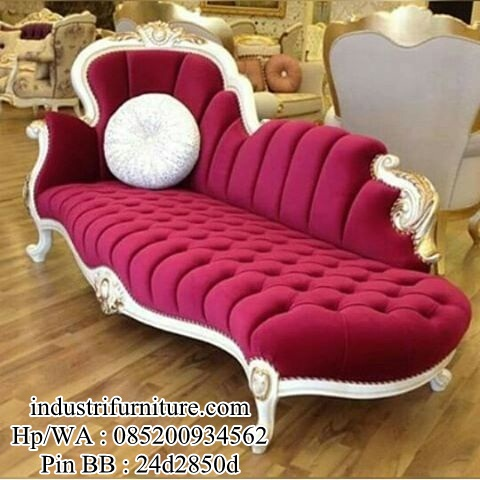Carving Chair: (31, 53, 455, 405)
